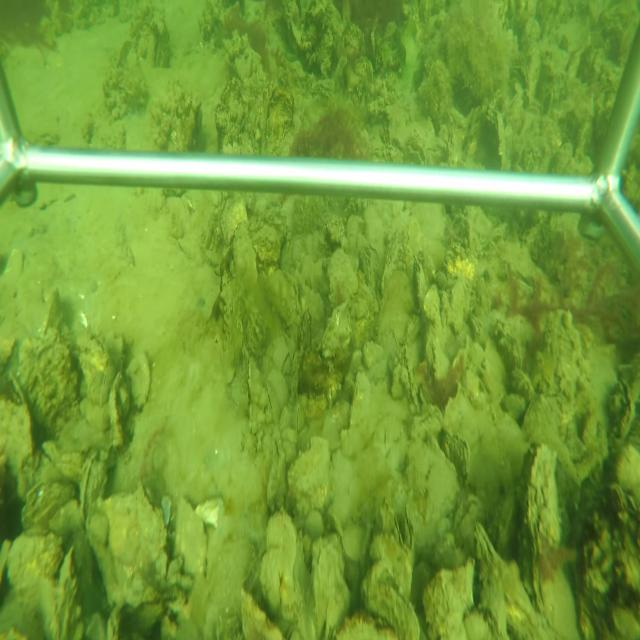Oyster-Closed: (518, 443, 583, 637), (472, 520, 540, 639), (91, 484, 169, 577), (364, 561, 422, 639), (338, 371, 375, 459), (264, 265, 305, 334), (78, 453, 105, 533), (378, 497, 412, 557), (483, 96, 509, 170), (216, 193, 248, 250), (126, 345, 152, 414), (399, 340, 421, 417), (246, 353, 265, 409), (411, 249, 426, 312), (403, 495, 415, 554)
Oyster-Indeterminate: (257, 511, 309, 632), (310, 529, 352, 635), (285, 432, 335, 518), (171, 493, 210, 579), (232, 225, 261, 292)
Oyster-Open: (611, 377, 635, 445)
